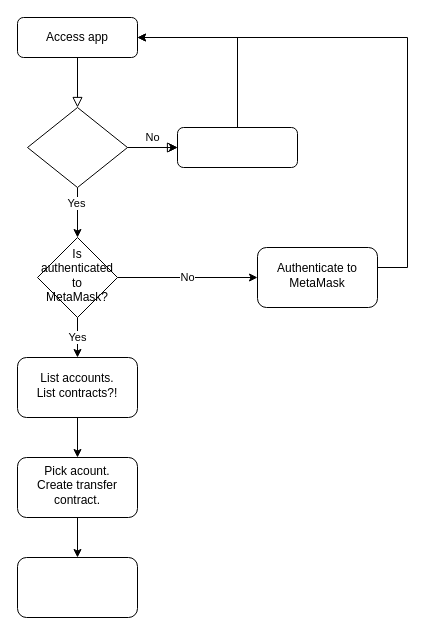
This 433x635 diagram has some shape labels left out. The box of each missing label's shape, as (x1, y1, x2, y2) in pixels:
Allow to cancel contract.: (16, 556, 138, 618)
Install Metamask: (176, 126, 298, 168)
Is MetaMask present?: (26, 106, 128, 188)
